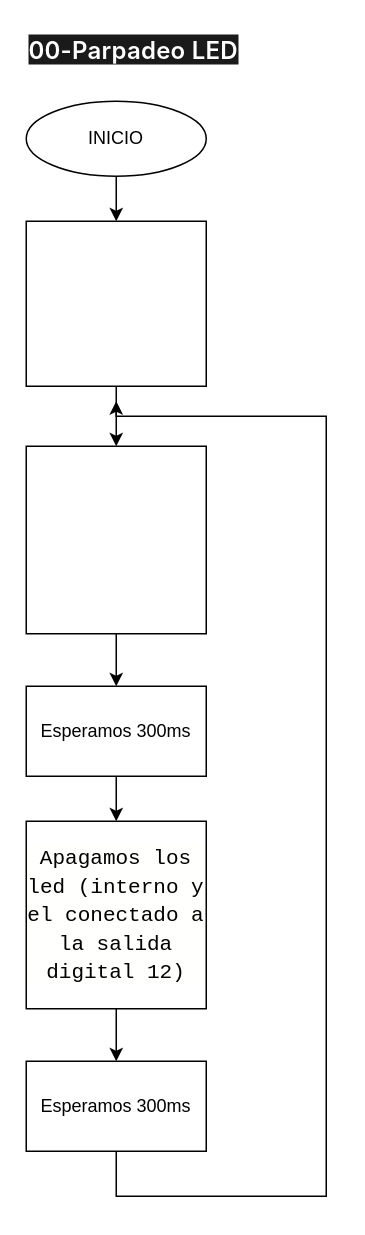
This 365x1235 diagram has some shape labels left out. The centre of each missing label's shape, as x and y in pixels:
"Encendemos los led (interno y el conectado a la salida digital 12)" belongs at pixel 115 539.
"Fijamos tanto el led interno como el PIN 12, como salidas digitales" belongs at pixel 115 303.
